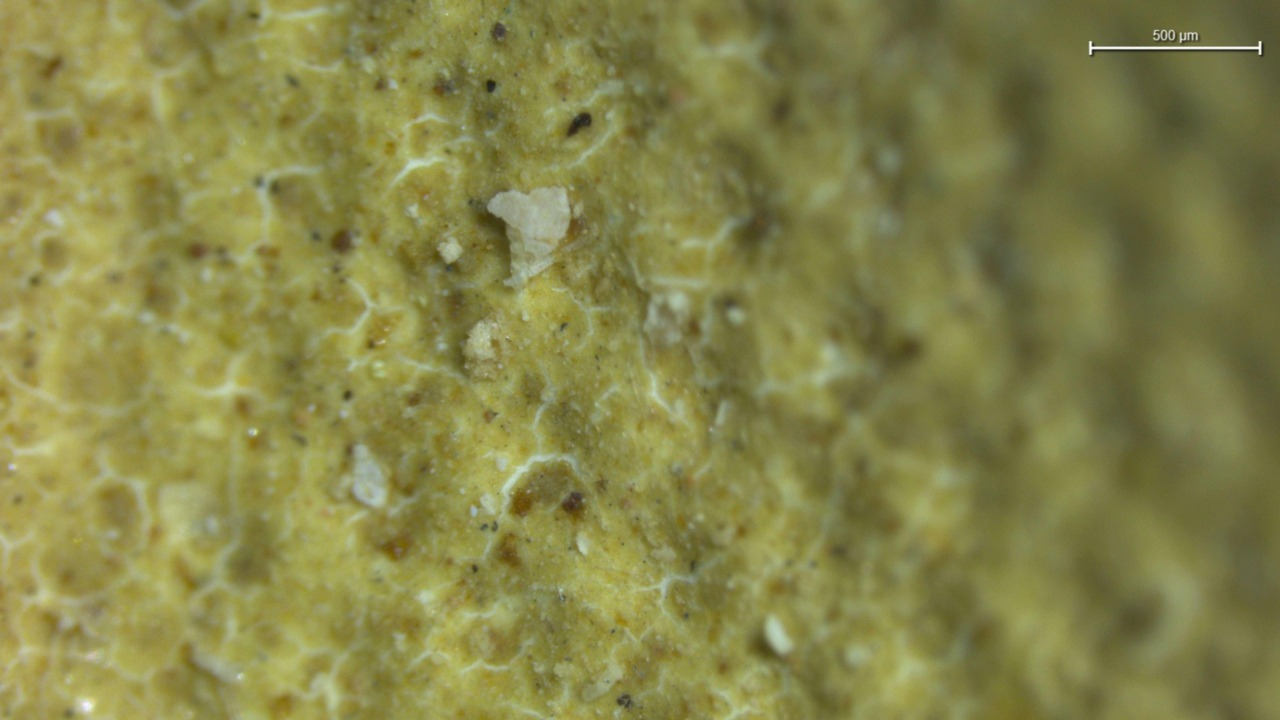microplastic_fragment: (487, 186, 571, 287), (351, 444, 387, 507)
